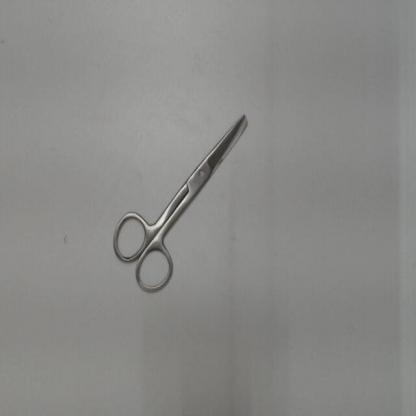Dressing Scissors: (107, 99, 256, 302)
